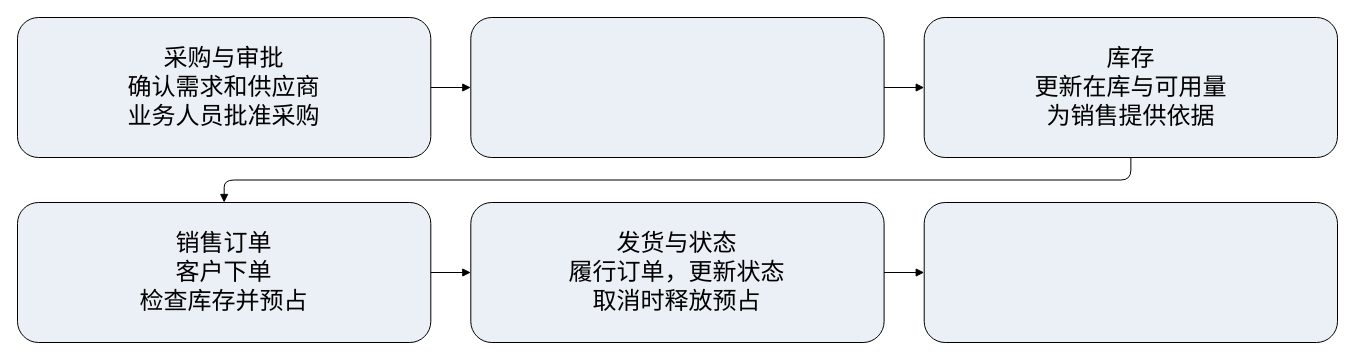
This 1355x360 diagram has some shape labels left out. Here are the shapes that lost their labels. From the top down, the centre of each, then its label:
(677,87): 收货入库 · L05 确认实际收到商品 同一收货只登记一次
(1130,272): 财务核对 结合业务与资金记录 查明差异并追溯
